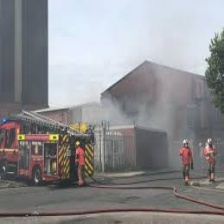smoke: (80, 103, 125, 121)
